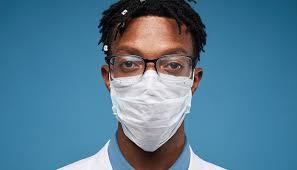Wearing Mask: (98, 0, 206, 153)
